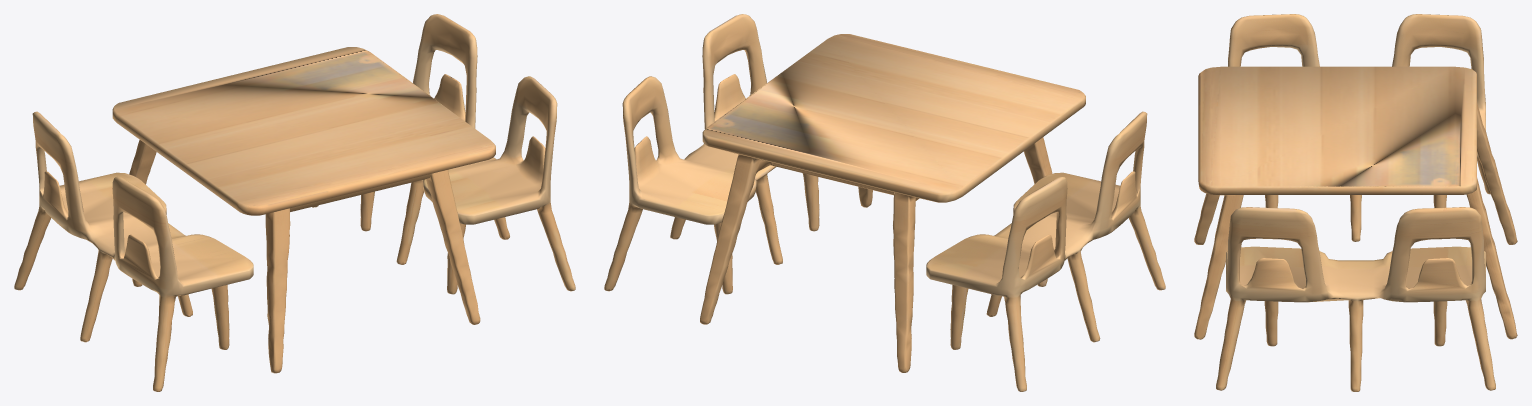
The model's file is Meshy_AI_A_stylized_low_poly_k_0430223511_texture.fbx.
3 views of the same model, side by side, from view 1: azimuth 30°, elevation 25°; view 2: azimuth 150°, elevation 25°; view 3: azimuth 270°, elevation 25° (orthographic). The views are drawn at different scales.
Parts seen in each view (by area): view 1: Mesh_0; view 2: Mesh_0; view 3: Mesh_0.
Part boxes in pixels (box(x1,y1,x2,y2)): Mesh_0: box(14, 14, 575, 391); Mesh_0: box(604, 14, 1165, 391); Mesh_0: box(1194, 14, 1517, 391).
Bounding box in the file's own units: 191 × 78.67 × 128.
Materials: 1 (1 with a texture image).
